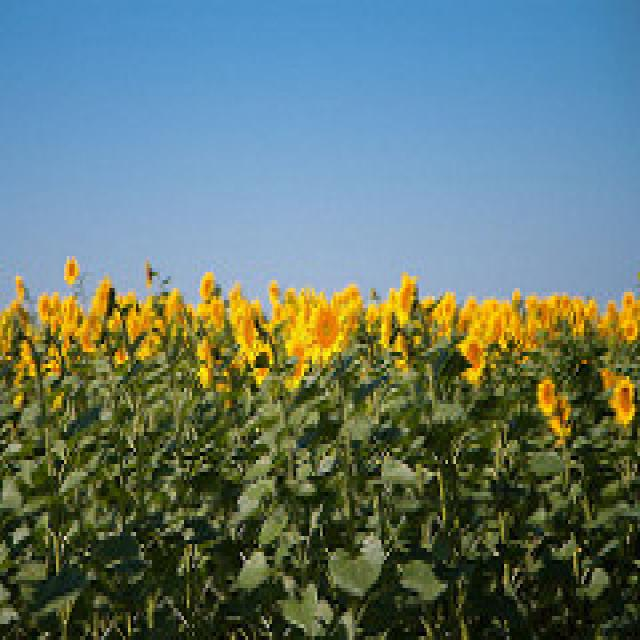sunflower: (299, 292, 348, 368), (535, 368, 564, 424), (612, 370, 639, 426), (61, 246, 80, 290)
